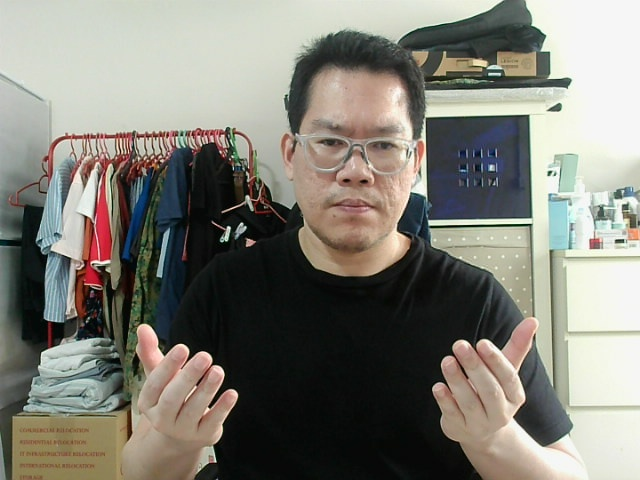want: (438, 325, 531, 441)
